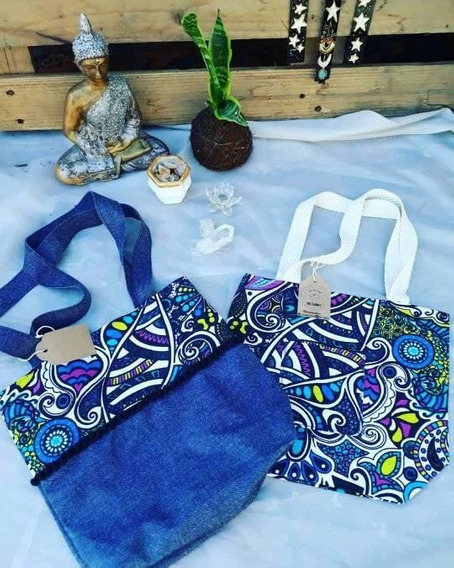cartera: (1, 191, 300, 568), (222, 187, 454, 506)
